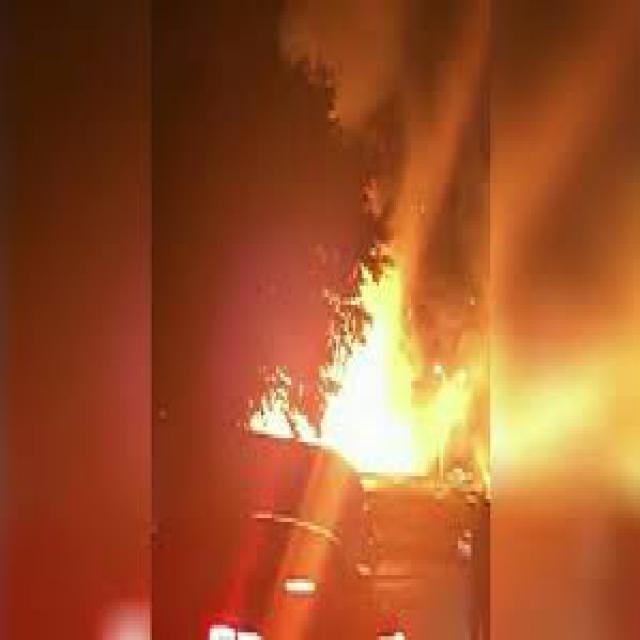Fire: (254, 258, 496, 484)
Smoke: (287, 6, 497, 250)
